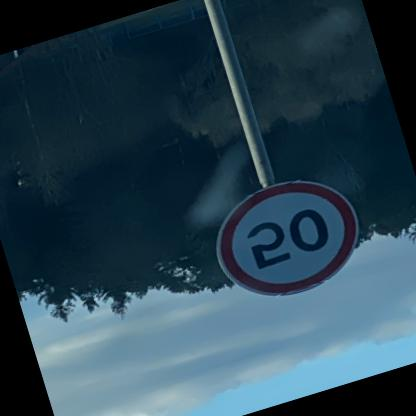speedlimit: (201, 166, 371, 314)
